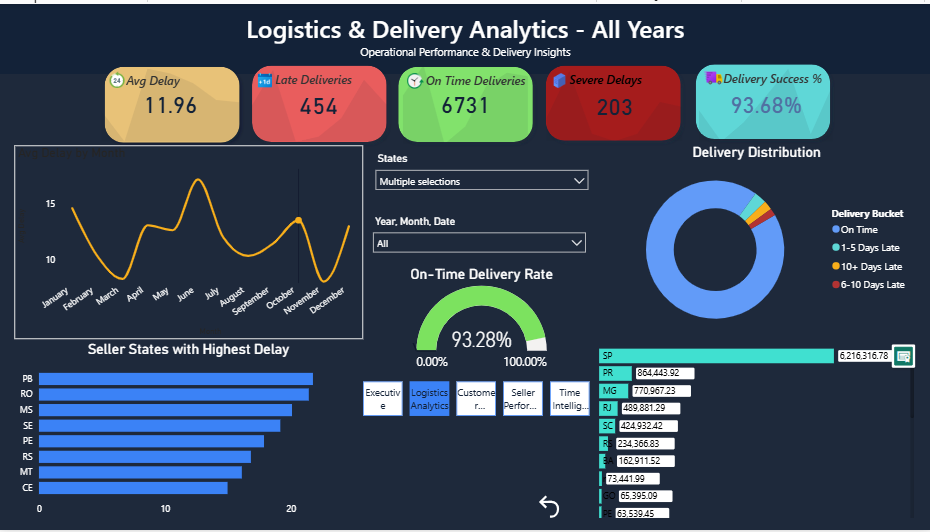

The page's visual inventory and layout, read from the dashboard file:
{"tool":"powerbi","page":{"name":"Logistics Analytics","canvas":[1280,720],"ordinal":1},"visuals":[{"type":"shape","box":[0,0,1280,95.8],"z":0},{"type":"slicer","fields":{"Values":["dim_customer.customer_state"]},"box":[506.5,198.5,311.4,75.3],"z":1000},{"type":"actionButton","box":[734.1,667.4,71.9,41.1],"z":2000},{"type":"cardVisual","fields":{"Data":["Dim_Date.Logistics Title"]},"box":[193.4,0,893.3,104.4],"z":3000},{"type":"slicer","fields":{"Values":["Dim_Date.Year","Dim_Date.Month","Dim_Date.Date"]},"box":[503.1,284.1,311.4,75.3],"z":4000},{"type":"shape","box":[136.8,77.8,202.9,121.8],"z":5000},{"type":"shape","box":[740.8,76,202.6,120.8],"z":6000},{"type":"kpi","fields":{"TrendLine":["Dim_Date.Day Name"],"Indicator":["Dim_Date.Avg Delay"]},"box":[136.9,83.9,198.5,109.5],"z":7000},{"type":"kpi","fields":{"TrendLine":["Dim_Date.Day Name"],"Indicator":["Dim_Date.Severe Delays"]},"box":[746.1,87.5,196.6,105.7],"z":8000},{"type":"shape","box":[339.4,76,202.1,122.6],"z":9000},{"type":"shape","box":[538.7,76.6,202.2,120.8],"z":10000},{"type":"shape","box":[945.9,73.5,202,120.4],"z":11000},{"type":"kpi","fields":{"TrendLine":["Dim_Date.Day Name"],"Indicator":["Dim_Date.Late Deliveries"]},"box":[340.8,85.8,197,108],"z":12000},{"type":"kpi","fields":{"TrendLine":["Dim_Date.Day Name"],"Indicator":["Dim_Date.Delivery Success %"]},"box":[954.9,83.9,193.4,109.5],"z":13000},{"type":"kpi","fields":{"TrendLine":["Dim_Date.Day Name"],"Indicator":["Dim_Date.On Time Deliveries"]},"box":[549.3,78.7,181.4,118.1],"z":14000},{"type":"image","box":[966,89,25,25],"z":15000},{"type":"image","box":[151,92,25,25],"z":16000},{"type":"image","box":[353,92,25.7,25],"z":17000},{"type":"image","box":[558,92,25,25.7],"z":18000},{"type":"image","box":[757,92,25,25],"z":19000},{"type":"lineChart","fields":{"Y":["Dim_Date.Avg Delay"],"Category":["Dim_Date.Month"]},"box":[22.2,193.4,477,266],"z":20000},{"type":"donutChart","title":"Delivery Distribution","fields":{"Category":["fact_orders.Delivery Bucket"],"Y":["Dim_Date.Total Orders"]},"box":[818,191.7,441,268],"z":21000},{"type":"horizontalBarChartPBICraft","fields":{"measure":["Dim_Date.Revenue"],"category":["dim_sellers.seller_state"]},"box":[818,462,441.5,246.4],"z":22000},{"type":"clusteredBarChart","title":"Seller States with Highest Delay","fields":{"Category":["dim_sellers.seller_state"],"Y":["Dim_Date.Avg Delay"]},"box":[22.2,462,477,247],"z":23000},{"type":"gauge","title":"On-Time Delivery Rate","fields":{"Y":["Dim_Date.Delivery Success %"]},"box":[511.7,359.4,301.2,152.3],"z":24000},{"type":"pageNavigator","box":[499.7,516.8,314.9,47.9],"z":25000}]}

Visuals, with their boxes in screenshot pixels (x1, y1, x2, y2), scaled from the page's 1280x720 canvas onto the 930x532 screenshot:
shape: BBox(0, 0, 929, 71)
slicer - dim_customer.customer_state: BBox(368, 147, 594, 202)
actionButton: BBox(533, 493, 586, 524)
cardVisual - Dim_Date.Logistics Title: BBox(141, 0, 790, 77)
slicer - Dim_Date.Year x Dim_Date.Month: BBox(366, 210, 592, 266)
shape: BBox(99, 57, 247, 147)
shape: BBox(538, 56, 685, 145)
kpi - Dim_Date.Day Name x Dim_Date.Avg Delay: BBox(99, 62, 244, 143)
kpi - Dim_Date.Day Name x Dim_Date.Severe Delays: BBox(542, 65, 685, 143)
shape: BBox(247, 56, 393, 147)
shape: BBox(391, 57, 538, 146)
shape: BBox(687, 54, 834, 143)
kpi - Dim_Date.Day Name x Dim_Date.Late Deliveries: BBox(248, 63, 391, 143)
kpi - Dim_Date.Day Name x Dim_Date.Delivery Success %: BBox(694, 62, 834, 143)
kpi - Dim_Date.Day Name x Dim_Date.On Time Deliveries: BBox(399, 58, 531, 145)
image: BBox(702, 66, 720, 84)
image: BBox(110, 68, 128, 86)
image: BBox(256, 68, 275, 86)
image: BBox(405, 68, 424, 87)
image: BBox(550, 68, 568, 86)
lineChart - Dim_Date.Avg Delay x Dim_Date.Month: BBox(16, 143, 363, 339)
"Delivery Distribution" donutChart: BBox(594, 142, 915, 340)
horizontalBarChartPBICraft - Dim_Date.Revenue x dim_sellers.seller_state: BBox(594, 341, 915, 523)
"Seller States with Highest Delay" clusteredBarChart: BBox(16, 341, 363, 524)
"On-Time Delivery Rate" gauge: BBox(372, 266, 591, 378)
pageNavigator: BBox(363, 382, 592, 417)
